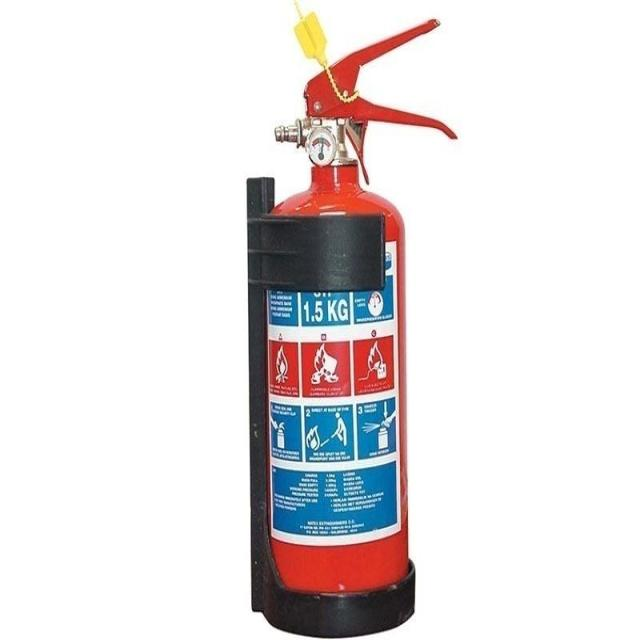Fire-Extinguisher: (242, 0, 459, 640)
